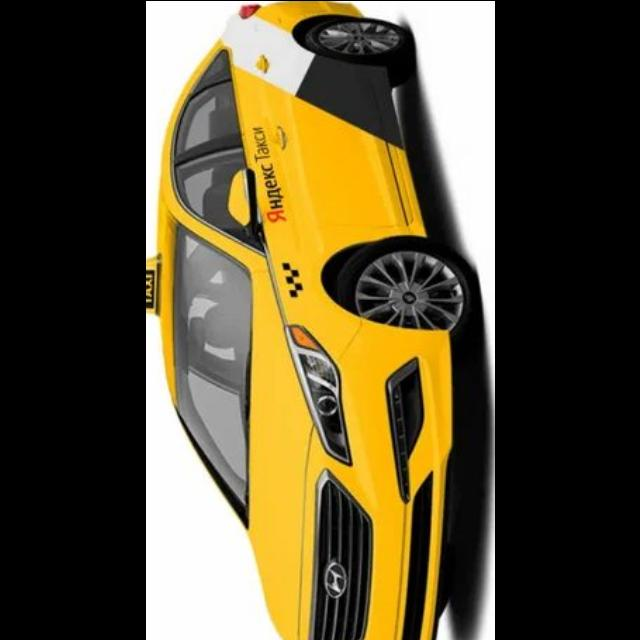taxi: (146, 1, 480, 640)
